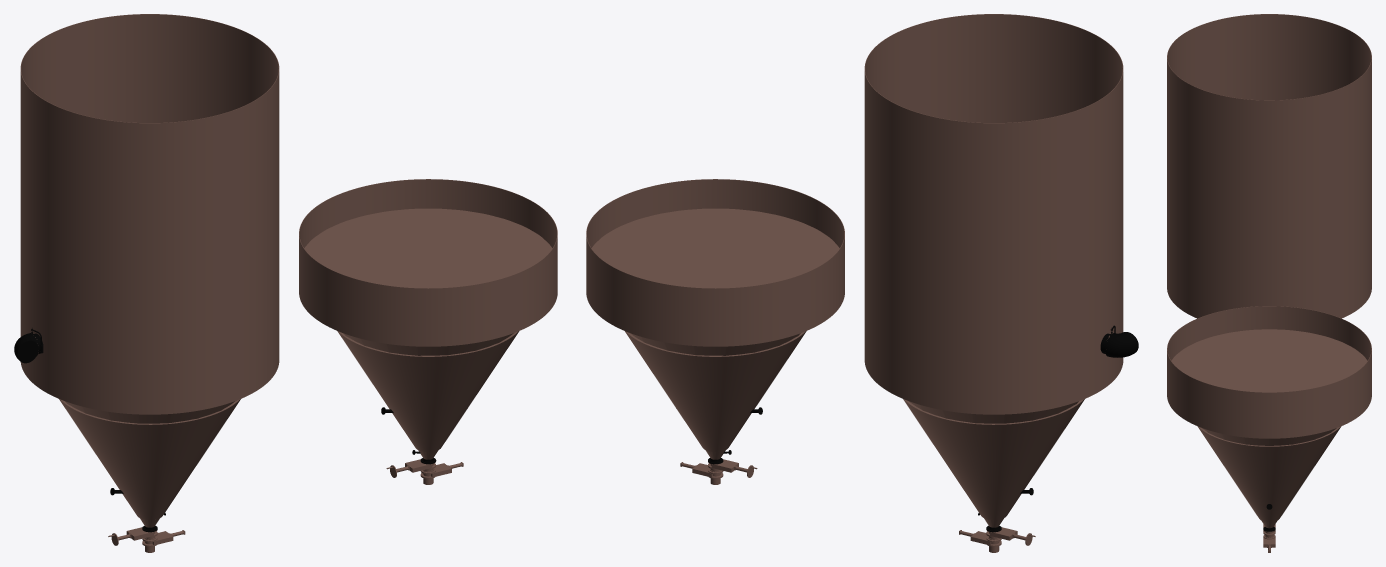
File: GCC-AAV-13220-30.nwd(2).fbx
3 renders of one model, left to right at view 1: azimuth 30°, elevation 25°; view 2: azimuth 150°, elevation 25°; view 3: azimuth 270°, elevation 25°, orthographic. The views are drawn at different scales.
Visible parts, largest first — view 1: CYLINDER 6 of EQUIPMENT /714-S-401D, CYLINDER 7 of EQUIPMENT /714-S-401D, CYLINDER 10 of EQUIPMENT /714-S-402D, CONE 1 of EQUIPMENT /714-S-402D, CYLINDER 9 of EQUIPMENT /714-S-401D, CYLINDER 8 of EQUIPMENT /714-S-401D, CYLINDER 10 of EQUIPMENT /714-S-401D, CONE 2 of EQUIPMENT /714-S-401D, CONE 2 of EQUIPMENT /714-S-402D, CONE 1 of EQUIPMENT /714-S-401D, /714-S-401D-N09; view 2: CYLINDER 6 of EQUIPMENT /714-S-401D, CYLINDER 7 of EQUIPMENT /714-S-401D, CYLINDER 10 of EQUIPMENT /714-S-402D, CONE 1 of EQUIPMENT /714-S-402D, CYLINDER 9 of EQUIPMENT /714-S-401D, CYLINDER 8 of EQUIPMENT /714-S-401D, CYLINDER 10 of EQUIPMENT /714-S-401D, CONE 2 of EQUIPMENT /714-S-401D, CONE 2 of EQUIPMENT /714-S-402D, CONE 1 of EQUIPMENT /714-S-401D, /714-S-401D-N09; view 3: CYLINDER 6 of EQUIPMENT /714-S-401D, CYLINDER 7 of EQUIPMENT /714-S-401D, CYLINDER 10 of EQUIPMENT /714-S-402D, CONE 1 of EQUIPMENT /714-S-402D, CYLINDER 8 of EQUIPMENT /714-S-401D, CYLINDER 9 of EQUIPMENT /714-S-401D, CYLINDER 10 of EQUIPMENT /714-S-401D, CONE 2 of EQUIPMENT /714-S-402D.
Boxes of the visible parts, x1,y1,x2,y2 form: CYLINDER 6 of EQUIPMENT /714-S-401D: (20,14,279,181); CYLINDER 7 of EQUIPMENT /714-S-401D: (20,72,279,239); CYLINDER 10 of EQUIPMENT /714-S-402D: (299,179,557,346); CONE 1 of EQUIPMENT /714-S-402D: (304,208,552,459); CYLINDER 9 of EQUIPMENT /714-S-401D: (20,246,279,356); CYLINDER 8 of EQUIPMENT /714-S-401D: (20,188,279,297); CYLINDER 10 of EQUIPMENT /714-S-401D: (20,305,279,414); CONE 2 of EQUIPMENT /714-S-401D: (59,399,240,519); CONE 2 of EQUIPMENT /714-S-402D: (337,331,519,451); CONE 1 of EQUIPMENT /714-S-401D: (65,401,234,527); /714-S-401D-N09: (14,328,43,363); CYLINDER 6 of EQUIPMENT /714-S-401D: (864,14,1123,181); CYLINDER 7 of EQUIPMENT /714-S-401D: (864,72,1123,239); CYLINDER 10 of EQUIPMENT /714-S-402D: (586,179,844,346); CONE 1 of EQUIPMENT /714-S-402D: (591,208,839,459); CYLINDER 9 of EQUIPMENT /714-S-401D: (864,246,1123,356); CYLINDER 8 of EQUIPMENT /714-S-401D: (864,188,1123,297); CYLINDER 10 of EQUIPMENT /714-S-401D: (864,305,1123,414); CONE 2 of EQUIPMENT /714-S-401D: (903,399,1084,519); CONE 2 of EQUIPMENT /714-S-402D: (625,331,806,451); CONE 1 of EQUIPMENT /714-S-401D: (908,401,1078,527); /714-S-401D-N09: (1100,325,1138,357); CYLINDER 6 of EQUIPMENT /714-S-401D: (1167,14,1371,146); CYLINDER 7 of EQUIPMENT /714-S-401D: (1167,60,1371,192); CYLINDER 10 of EQUIPMENT /714-S-402D: (1167,306,1371,438); CONE 1 of EQUIPMENT /714-S-402D: (1171,329,1367,528); CYLINDER 8 of EQUIPMENT /714-S-401D: (1167,151,1371,238); CYLINDER 9 of EQUIPMENT /714-S-401D: (1167,197,1371,284); CYLINDER 10 of EQUIPMENT /714-S-401D: (1167,244,1371,318); CONE 2 of EQUIPMENT /714-S-402D: (1197,426,1341,521).
Bounding box in the file's own units: 748 × 652 × 317.
